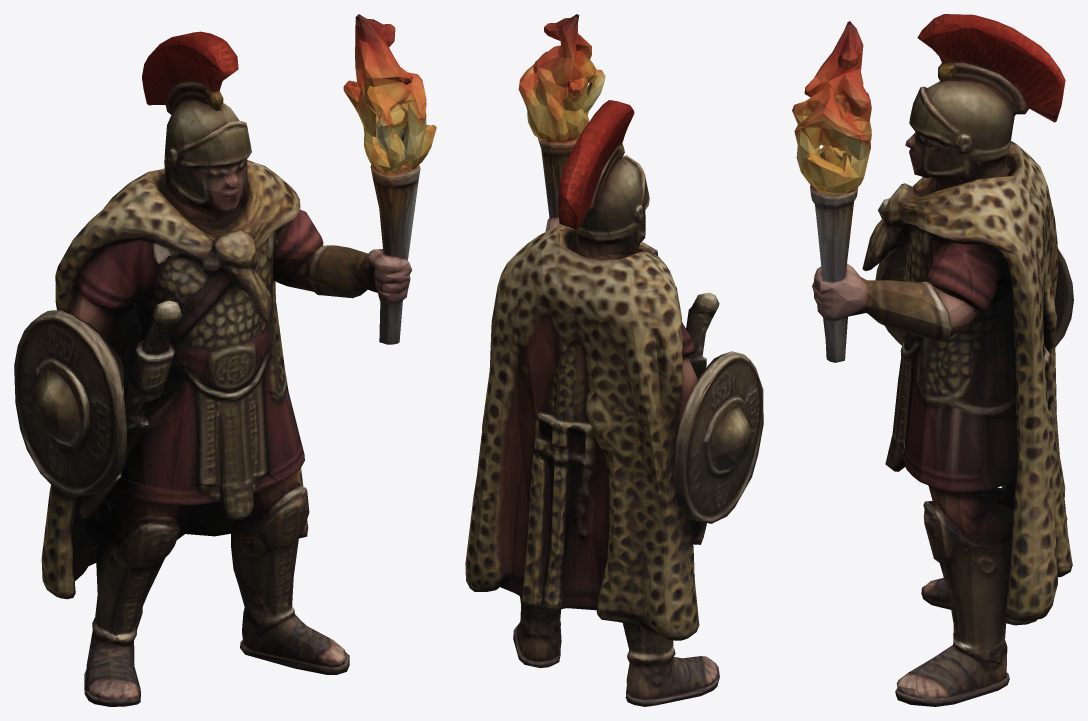
Rendered from raidTorchbearer.glb.
3 renders of one model, left to right at view 1: azimuth 30°, elevation 25°; view 2: azimuth 150°, elevation 25°; view 3: azimuth 270°, elevation 25°, orthographic. The views are drawn at different scales.
Parts seen in each view (by area): view 1: world; view 2: world; view 3: world.
Part boxes in pixels (x1,y1,x2,y2): world: (14, 14, 436, 706); world: (465, 14, 763, 706); world: (792, 14, 1073, 706).
Bounding box in the file's own units: 0.4868 × 1 × 0.3798.
Materials: 1 (1 with a texture image).
